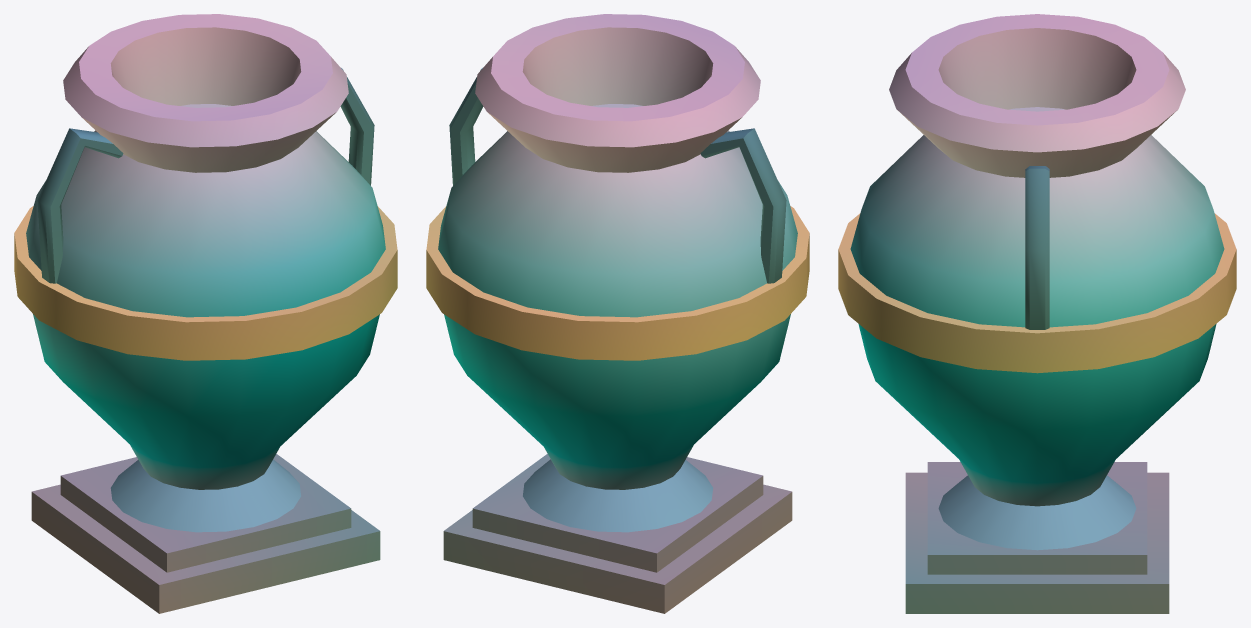
File: urn.glb
The picture shows the model from 3 angles, left to right: view 1: azimuth 30°, elevation 25°; view 2: azimuth 150°, elevation 25°; view 3: azimuth 270°, elevation 25°; orthographic projection. The views are drawn at different scales.
Visible parts, largest first — view 1: urn, urn_plinth, urn_band, urn_handle_-1, urn_handle_1; view 2: urn, urn_plinth, urn_band, urn_handle_-1, urn_handle_1; view 3: urn, urn_plinth, urn_band, urn_handle_1.
Part boxes in pixels (box(x1,y1,x2,y2)): urn: box(26, 14, 385, 532); urn_plinth: box(31, 454, 380, 613); urn_band: box(14, 206, 397, 360); urn_handle_-1: box(37, 128, 123, 283); urn_handle_1: box(340, 68, 374, 185); urn: box(438, 14, 797, 532); urn_plinth: box(443, 454, 792, 613); urn_band: box(426, 206, 809, 360); urn_handle_-1: box(700, 128, 786, 283); urn_handle_1: box(449, 68, 483, 185); urn: box(850, 14, 1224, 550); urn_plinth: box(905, 462, 1169, 613); urn_band: box(838, 213, 1236, 373); urn_handle_1: box(1025, 166, 1049, 329).
Size of the model in its own units: 0.724 by 0.98 by 0.724.
